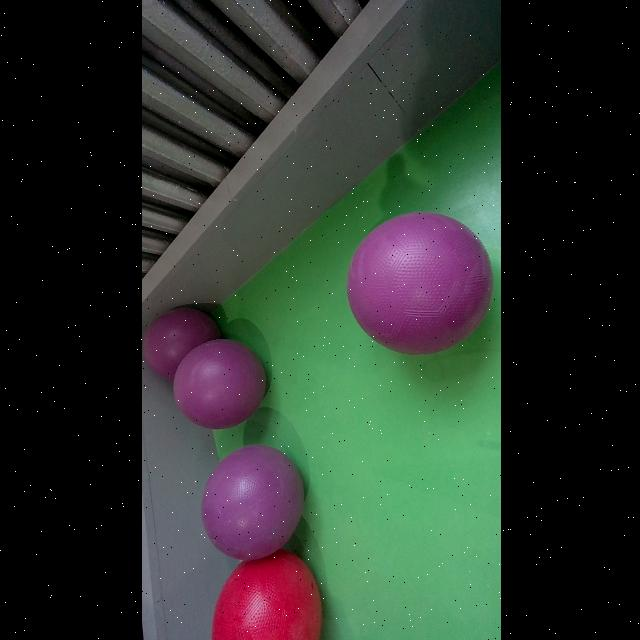P: (344, 212, 492, 354), (199, 444, 303, 560), (172, 339, 264, 429), (146, 307, 227, 369)
R: (205, 564, 338, 640)
